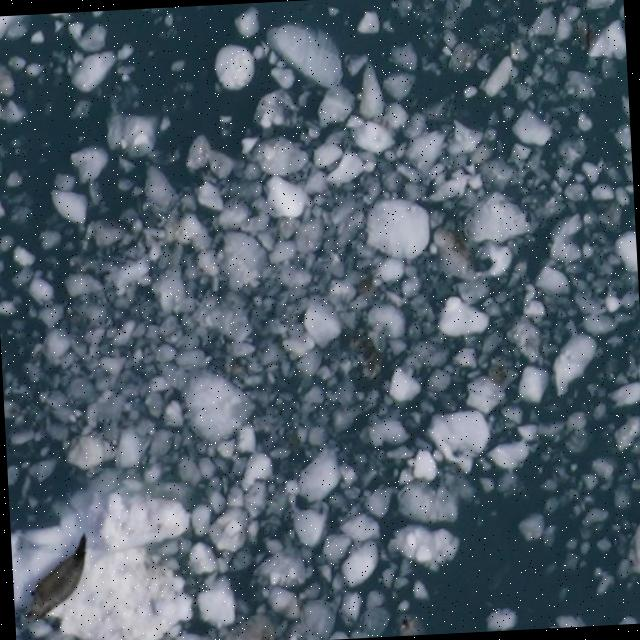seal: (27, 534, 88, 622)
